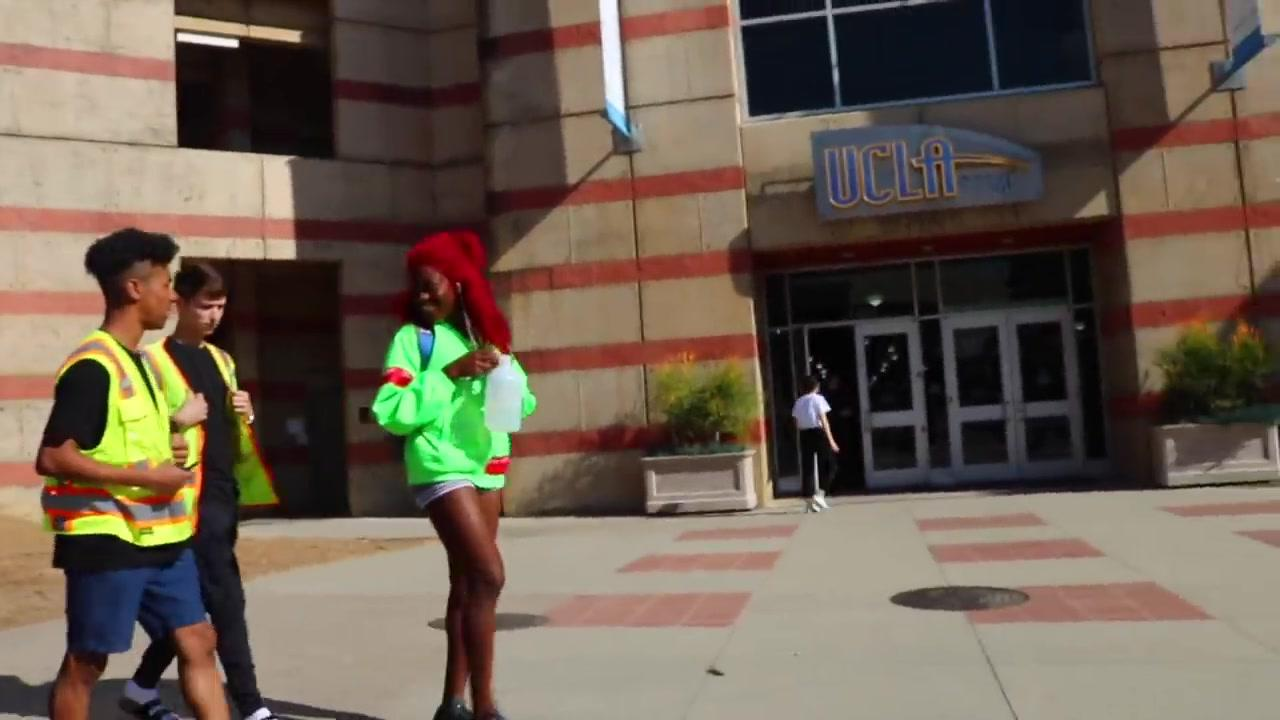Hi-Vis Jacket: (44, 344, 193, 555), (157, 334, 283, 524)
no -hi-vis jacket: (391, 327, 526, 496)
